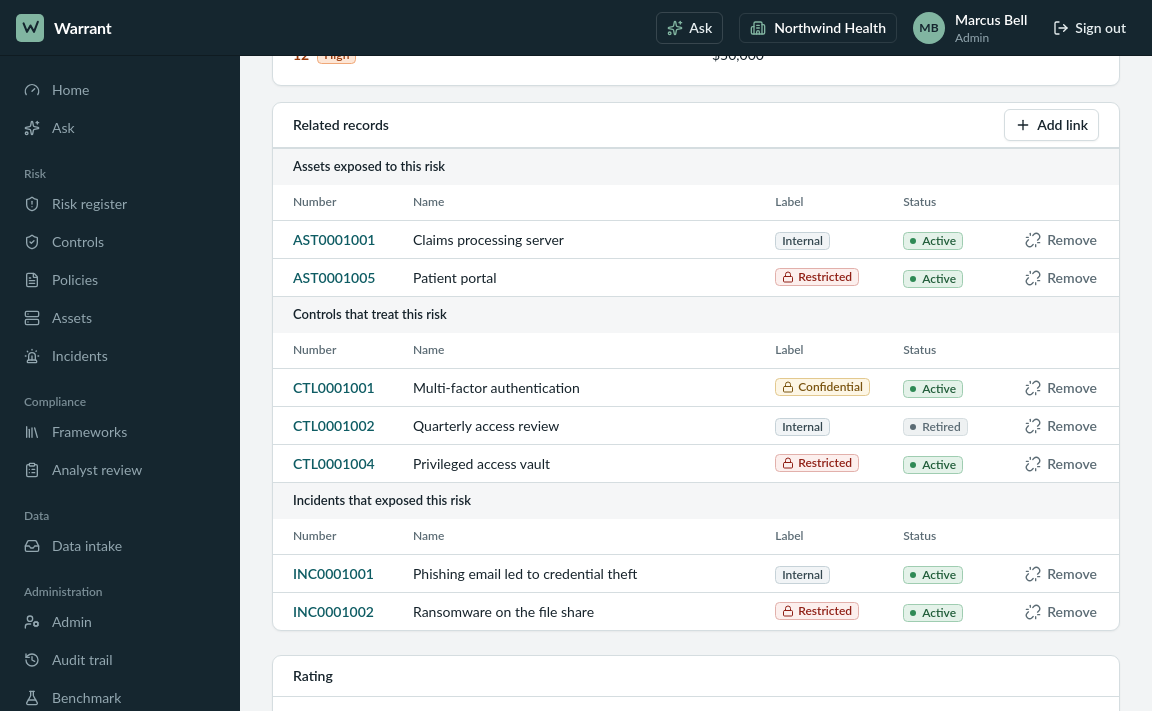
Test: the confirmation (criterion 2) › names the group, the other record’s number and name, and says it is recorded in the audit trail
The width and height of the screenshot is (1152, 711).
(page scrolled)
expect the row "CTL0001001" is shown: met, box [273,368,1119,406]
Click the button "Remove" in the row of "CTL0001001".
click(1061, 388)  # box [1015,374,1107,402]
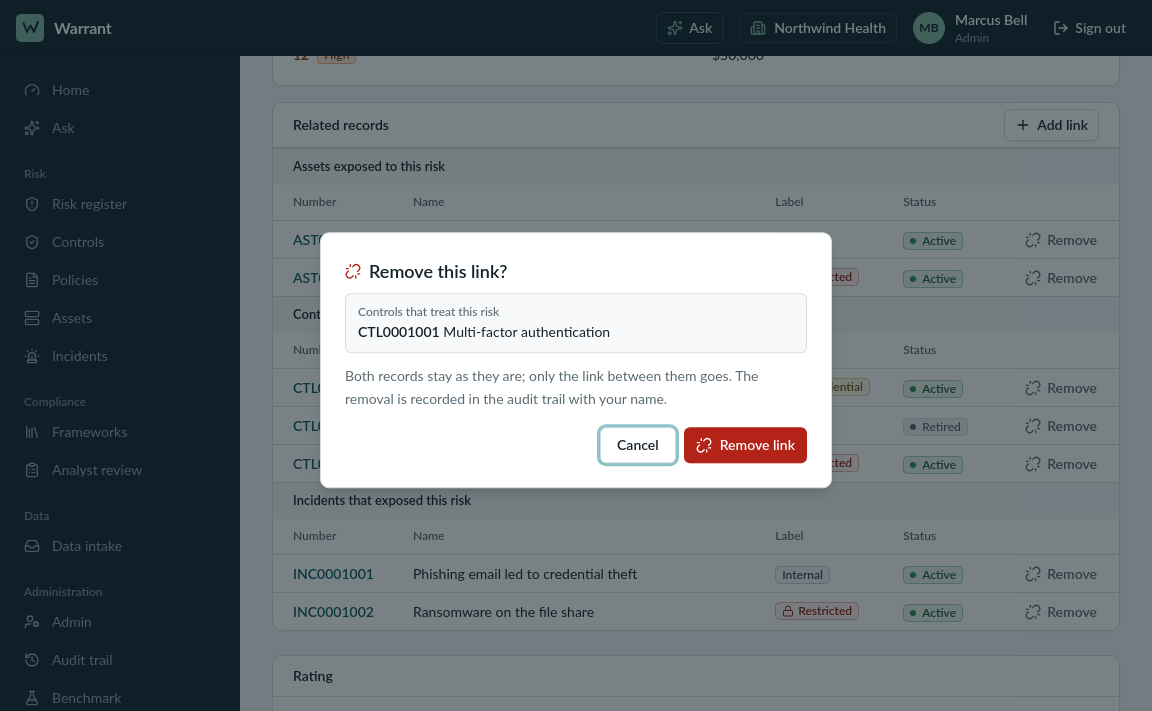
expect the dialog shows "CTL0001001": met, box [358,323,440,340]
expect the dialog shows "Multi-factor authentication": met, box [443,323,610,340]
expect the dialog shows "audit trail": met, box [345,367,758,407]
